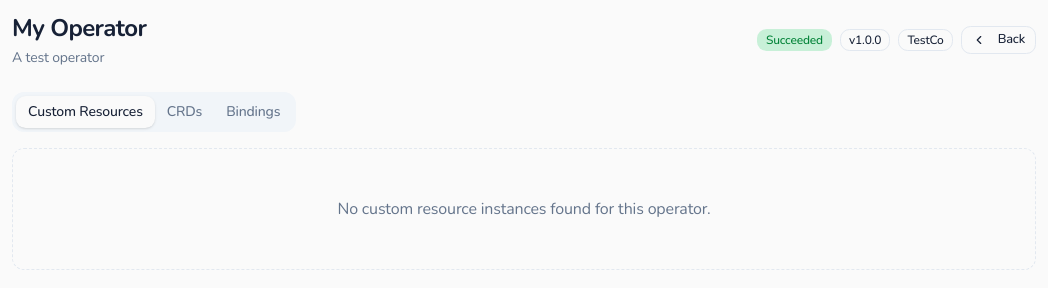
Scenario: OperatorDetailClient › displays linked component bindings
The image size is (1048, 288).
Check: the heading "My Operator" is shown, box 12,12 -> 146,44
// Click the Bindings tab
Step 1. Click the tab "Bindings" → coordinates (253, 112), box 214,96 -> 292,128
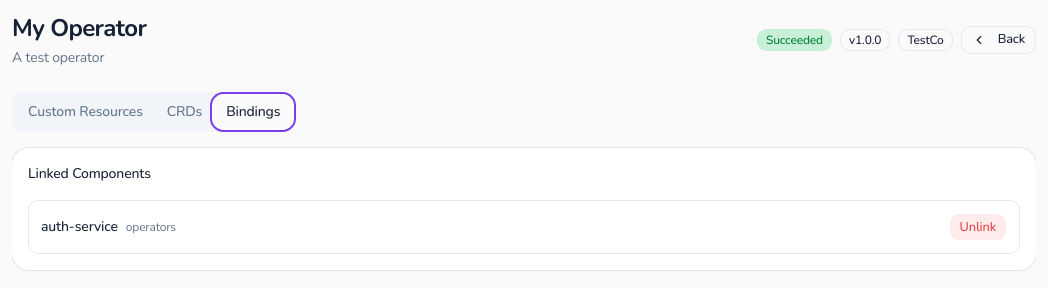
Check: the text "auth-service" is shown, box 41,217 -> 118,236
